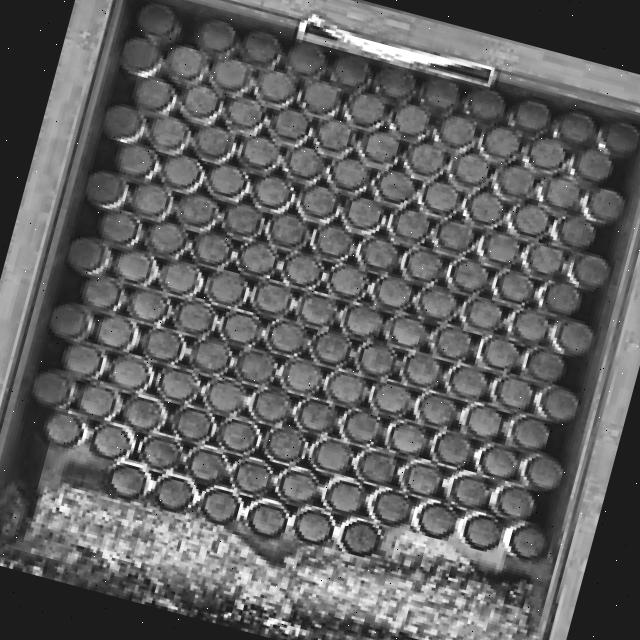vial: (120, 37, 162, 77), (240, 30, 282, 69), (325, 263, 369, 300), (338, 408, 382, 445), (140, 327, 185, 363), (237, 135, 279, 173), (339, 303, 382, 340), (190, 231, 233, 268), (144, 221, 187, 258), (49, 303, 92, 340), (505, 523, 548, 560), (171, 406, 214, 443), (31, 369, 74, 406), (42, 410, 85, 447), (202, 378, 246, 414), (204, 271, 248, 307), (157, 260, 201, 296), (61, 343, 106, 378), (196, 18, 236, 57), (84, 170, 126, 207), (522, 454, 564, 491), (292, 507, 334, 544), (234, 349, 277, 385), (385, 420, 428, 456), (189, 339, 232, 375), (156, 367, 200, 402), (572, 147, 613, 184), (569, 252, 610, 289), (186, 447, 227, 484), (554, 214, 596, 250), (115, 143, 157, 179), (281, 252, 323, 288), (295, 292, 337, 328), (536, 386, 578, 422), (249, 388, 291, 424), (173, 300, 215, 336), (127, 288, 169, 324), (132, 78, 175, 113), (80, 276, 123, 311), (108, 356, 151, 391), (585, 187, 625, 224), (166, 44, 206, 81), (340, 519, 380, 556), (599, 120, 640, 156), (405, 141, 446, 177), (255, 69, 296, 105), (102, 105, 143, 141), (222, 202, 263, 238), (416, 286, 457, 322), (236, 241, 277, 277), (219, 310, 260, 346), (508, 415, 549, 451), (415, 392, 456, 428), (431, 431, 472, 467), (94, 315, 135, 351), (356, 449, 397, 485), (122, 396, 163, 432), (153, 475, 194, 511), (107, 463, 148, 499), (507, 309, 549, 344), (371, 275, 413, 310), (250, 281, 292, 316), (280, 359, 322, 394), (475, 444, 517, 479), (264, 428, 306, 463), (139, 434, 181, 469), (300, 79, 339, 116), (436, 114, 476, 150), (540, 175, 580, 211), (314, 118, 354, 154), (389, 208, 429, 244), (225, 97, 265, 133), (554, 320, 594, 356), (479, 335, 519, 371), (266, 319, 306, 355), (200, 488, 240, 524), (91, 423, 131, 459), (556, 110, 597, 145), (465, 87, 506, 122), (375, 66, 416, 101), (345, 92, 386, 127), (509, 202, 550, 237), (540, 281, 581, 316), (285, 42, 326, 77), (161, 154, 202, 189), (177, 193, 218, 228), (355, 342, 396, 377), (310, 331, 351, 366), (325, 371, 366, 406), (311, 439, 352, 474), (217, 418, 258, 453), (385, 315, 427, 349), (97, 211, 139, 245), (113, 250, 155, 284), (360, 130, 399, 166), (511, 98, 551, 133), (390, 103, 430, 138), (525, 242, 565, 277), (495, 269, 535, 304), (358, 237, 398, 272), (524, 348, 564, 383), (447, 364, 487, 399), (401, 353, 441, 388), (496, 485, 536, 520), (278, 469, 318, 504), (136, 3, 177, 37), (206, 164, 247, 198), (370, 381, 411, 415), (295, 399, 336, 433), (314, 223, 352, 259), (421, 77, 460, 112), (481, 125, 520, 160), (332, 54, 371, 89), (421, 180, 460, 215), (375, 169, 414, 204), (343, 196, 382, 231), (130, 183, 169, 218), (463, 404, 502, 439), (527, 137, 567, 171), (329, 157, 369, 191), (284, 146, 324, 180), (298, 185, 338, 219), (251, 175, 291, 209), (449, 259, 489, 293), (148, 116, 188, 150), (493, 376, 533, 410), (66, 238, 106, 272), (449, 474, 489, 508), (247, 502, 287, 536), (76, 384, 116, 418), (463, 514, 500, 550), (404, 248, 442, 283), (268, 213, 306, 248), (271, 108, 309, 143), (195, 125, 233, 160), (417, 502, 455, 537), (481, 231, 520, 265), (211, 58, 250, 92), (463, 297, 502, 331), (432, 326, 471, 360), (371, 490, 410, 524), (325, 480, 364, 514), (232, 461, 272, 494), (497, 164, 535, 198), (451, 152, 489, 186), (466, 191, 504, 225), (436, 219, 474, 253), (181, 85, 219, 119), (403, 463, 442, 496)
